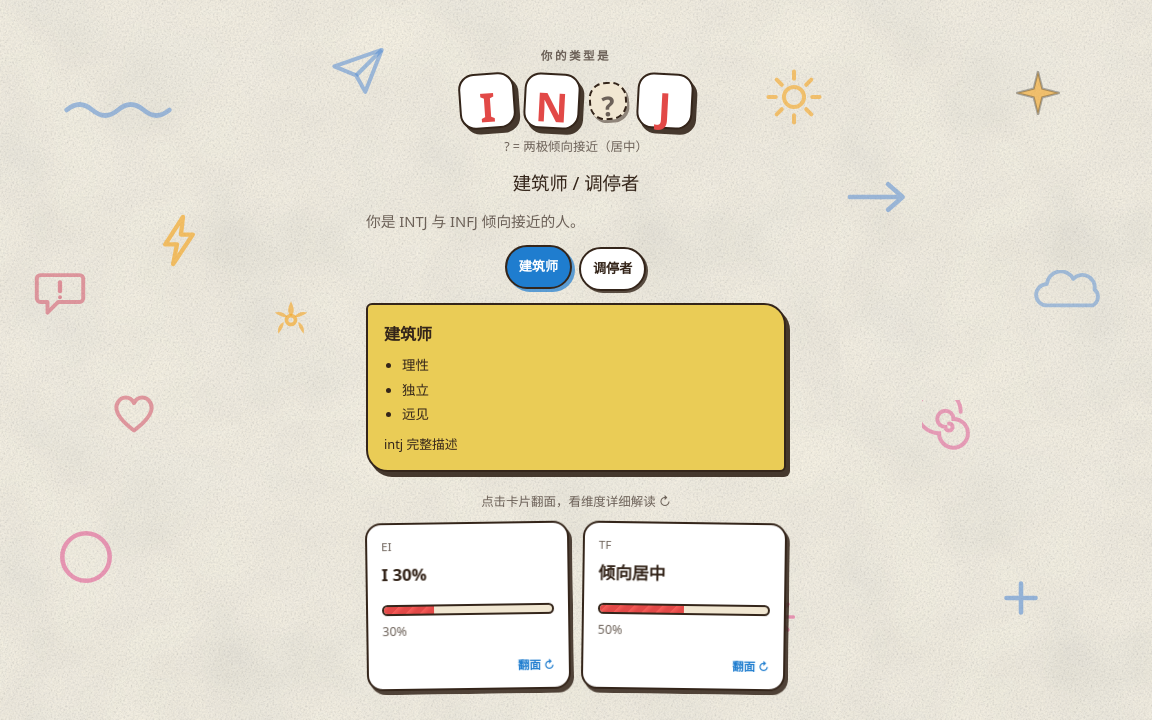
Test: Result › 居中态（含候选类型）渲染筛选按钮 + 详情面板（D 变体）
Expected: the text "intj 完整描述" is shown, [384,435,458,453]
Expected: the list item "远见" is shown, [402,405,429,423]
What coordinates should you click on to do the following:
click the button "调停者"
I would click on:
 (613, 269)
Its box is [579,247,646,291].
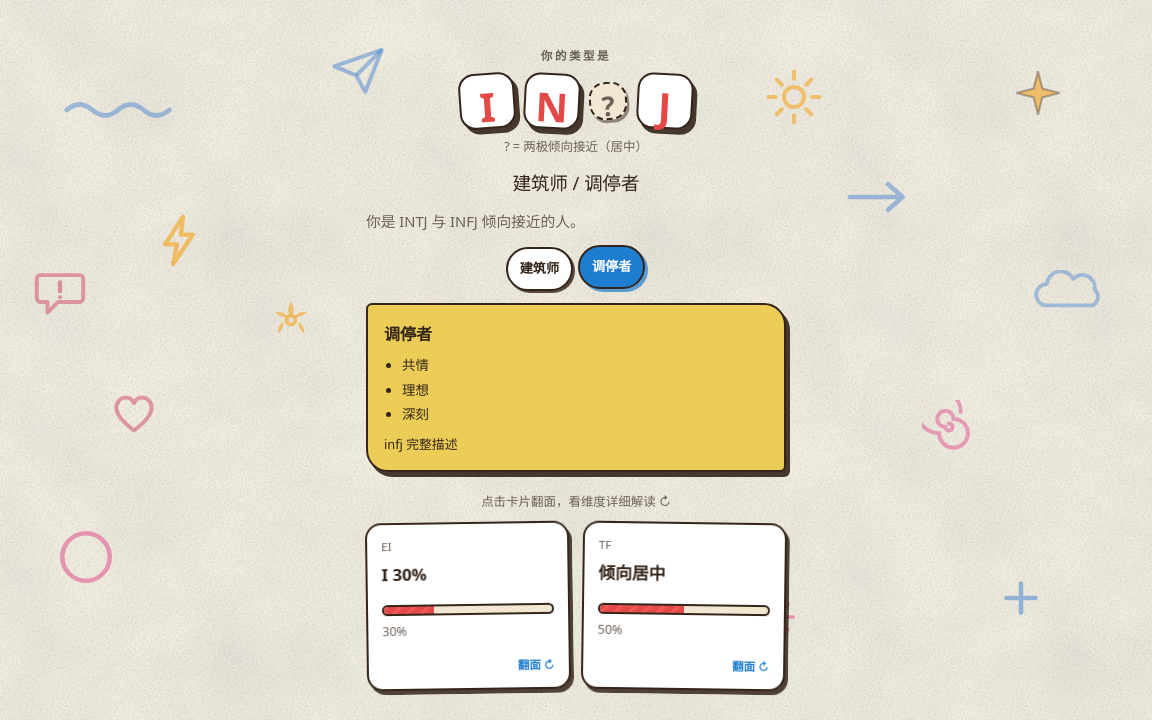
Expected: the text "infj 完整描述" is shown, [384,435,457,453]
Expected: the list item "理想" is shown, [402,381,429,399]
